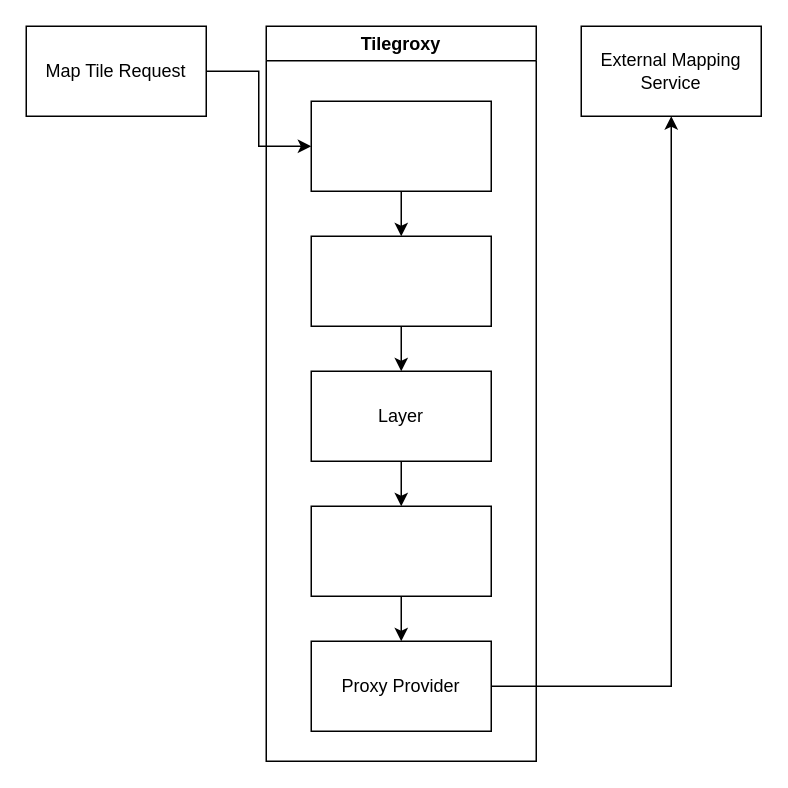
Some shapes in this 788 by 788 pixel diagram are drawn without their labels. Each missing label, with the centre of its shape:
"Authentication" belongs at [400,280].
"Cache" belongs at [400,550].
"Server" belongs at [400,145].
